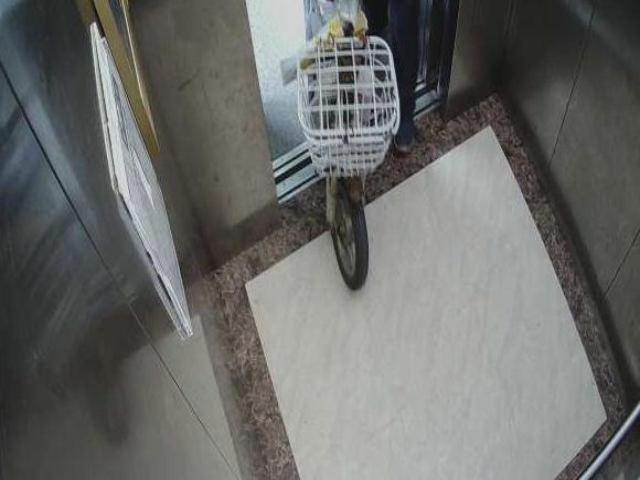emotor: (288, 4, 411, 297)
